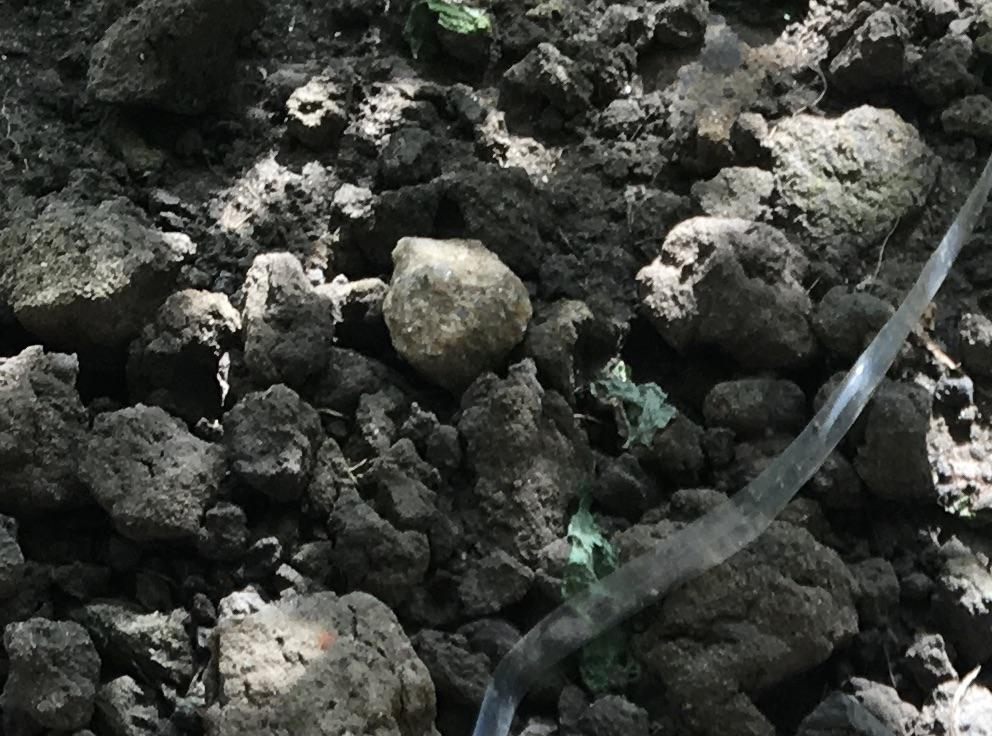block: (209, 597, 440, 736), (637, 209, 810, 360), (377, 228, 530, 374), (83, 399, 211, 538)
